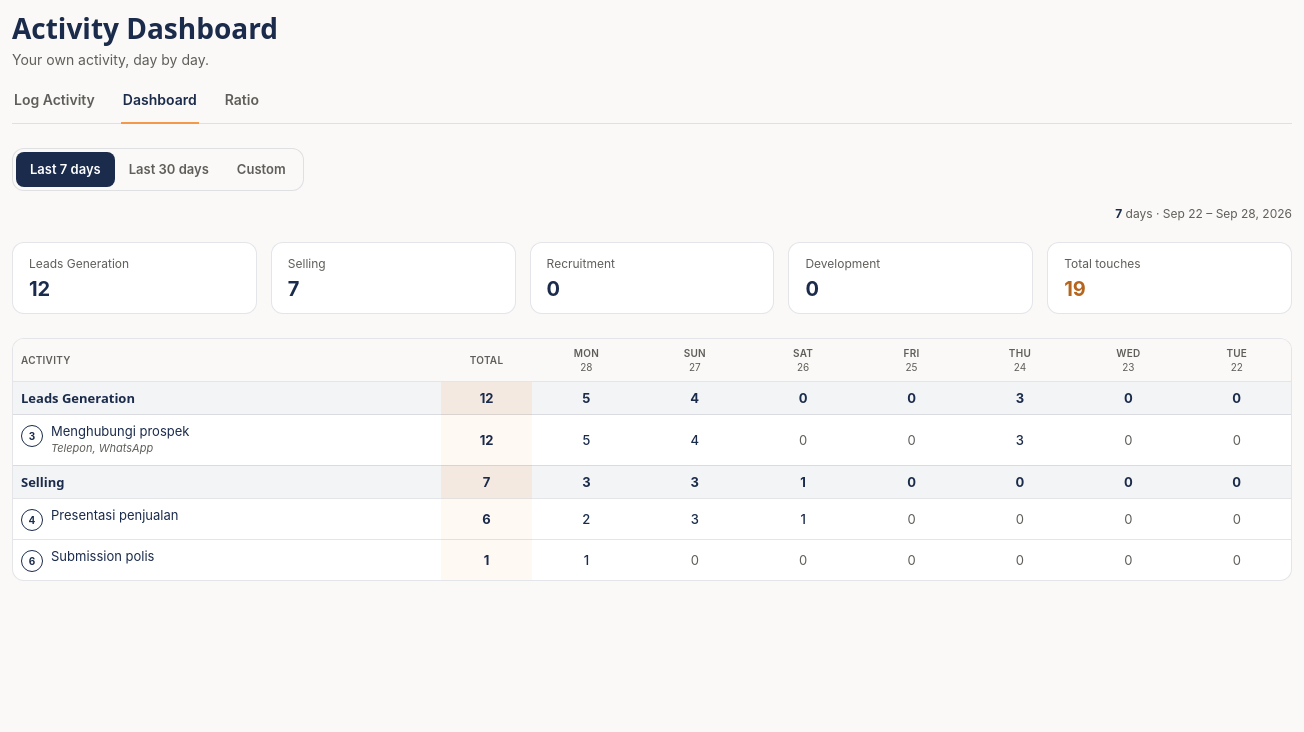
the Activity Dashboard (P10-T1) › AC-3: says why a range cannot be shown, beside the dates, and does not ask
This screenshot has width=1304, height=732.
Expected: the text "Menghubungi prospek" is shown, 51,423 -> 189,439
Click the tab "Custom" at (261,170), box 223,152 -> 300,187
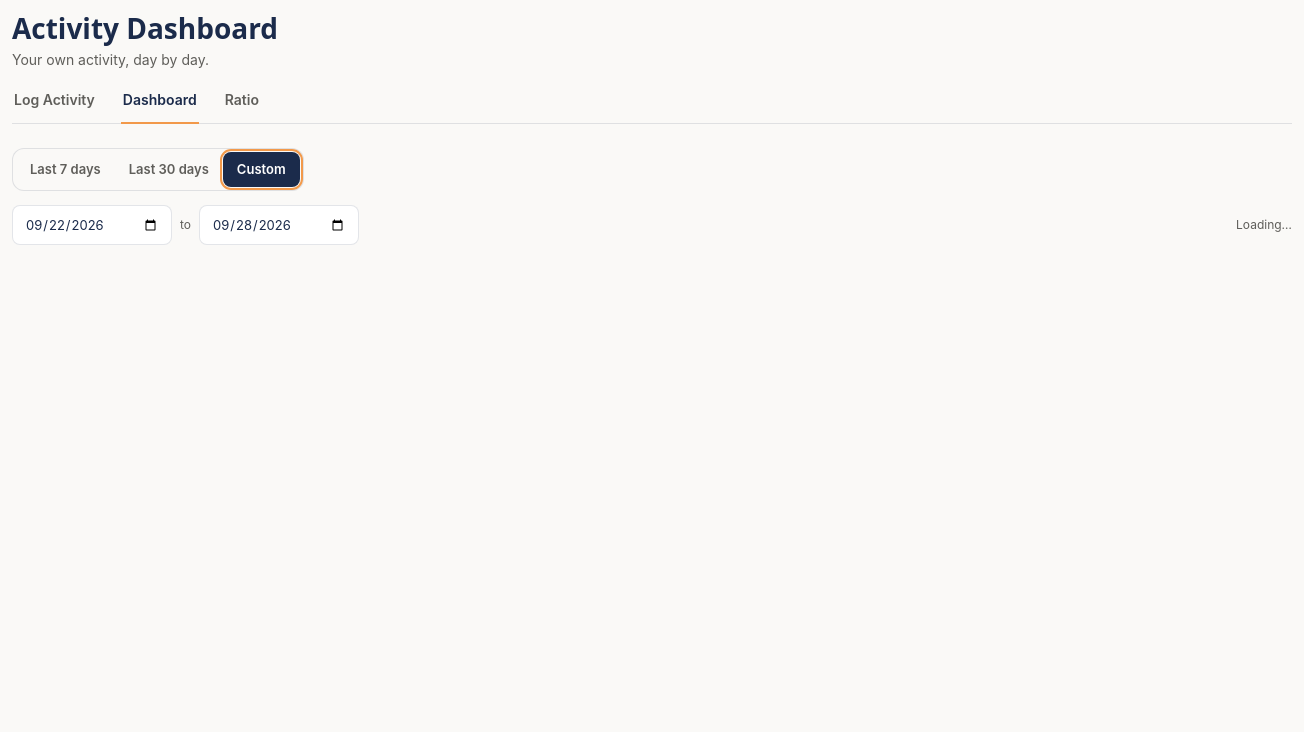
Type "2026-09-30" into the date field named "From" at (92,225), box 12,205 -> 172,245
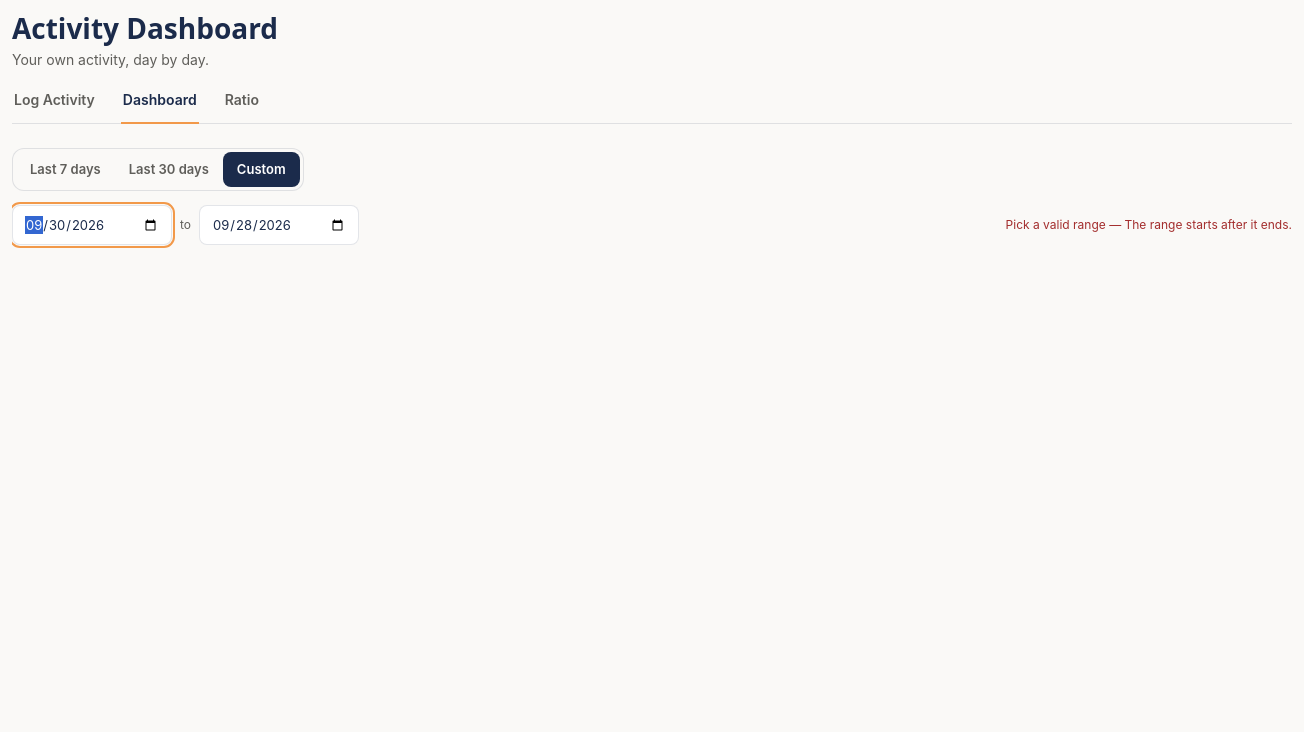
Expected: the table "Your activity" is not shown
Expected: the message reads "Pick a valid range — The range starts after it ends.", 1006,216 -> 1292,234
